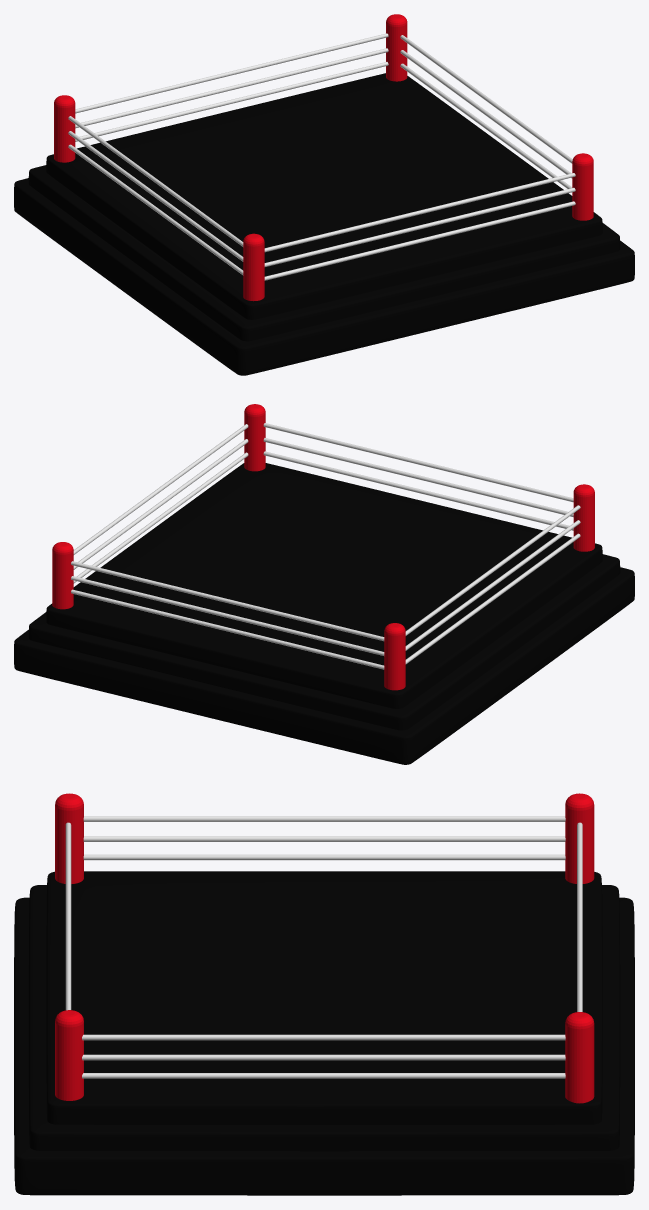
Rendered from Ring 1.fbx.
3 renders of one model, top to bottom at view 1: azimuth 30°, elevation 25°; view 2: azimuth 150°, elevation 25°; view 3: azimuth 270°, elevation 25°, orthographic. The views are drawn at different scales.
Visible parts, largest first — view 1: Kubus, Kubus.002, Silinder.001, Silinder; view 2: Kubus, Kubus.002, Silinder.001, Silinder; view 3: Kubus, Kubus.002, Silinder.001, Silinder.
Boxes of the visible parts, <box> form: Kubus: <box>46,73,602,319</box>; Kubus.002: <box>14,165,634,375</box>; Silinder.001: <box>68,33,575,280</box>; Silinder: <box>54,14,593,301</box>; Kubus: <box>46,463,602,708</box>; Kubus.002: <box>14,554,634,764</box>; Silinder.001: <box>71,423,580,669</box>; Silinder: <box>52,404,594,690</box>; Kubus: <box>46,871,602,1124</box>; Kubus.002: <box>14,885,634,1195</box>; Silinder.001: <box>65,816,582,1078</box>; Silinder: <box>55,793,594,1103</box>.
Size of the model in its own units: 1339 by 384 by 1339.
